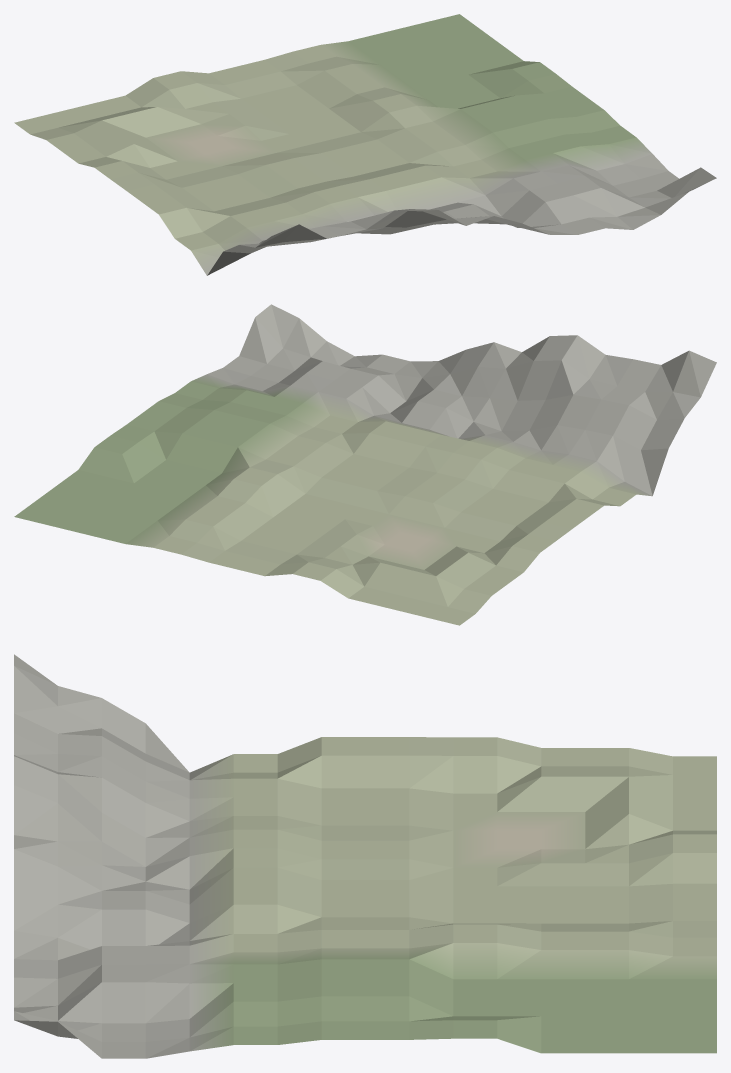
3 views of the same model, one above another, from view 1: azimuth 30°, elevation 25°; view 2: azimuth 150°, elevation 25°; view 3: azimuth 270°, elevation 25° (orthographic). The views are drawn at different scales.
Bounding box in the file's own units: 32 × 6.31 × 32.
